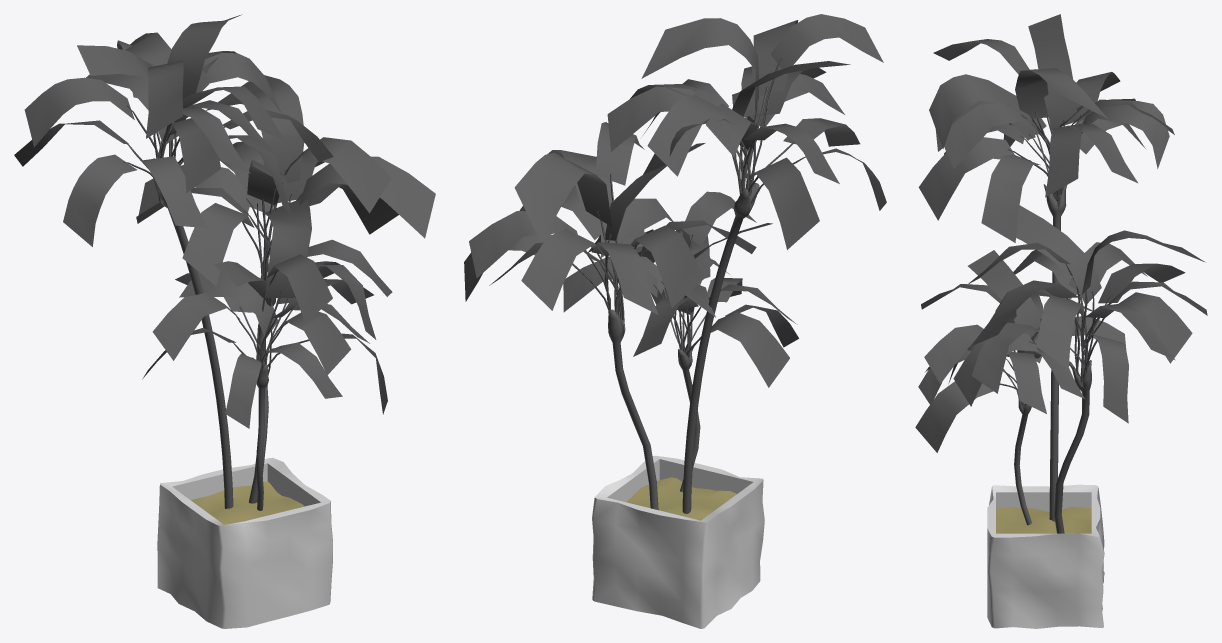
The model's file is vase04.FBX.
3 renders of one model, left to right at view 1: azimuth 30°, elevation 25°; view 2: azimuth 150°, elevation 25°; view 3: azimuth 270°, elevation 25°, orthographic. The views are drawn at different scales.
Parts seen in each view (by area): view 1: vase04; view 2: vase04; view 3: vase04.
Boxes of the visible parts, x1,y1,x2,y2 form: vase04: (14,14,435,628); vase04: (464,14,886,628); vase04: (915,14,1207,628).
Bounding box in the file's own units: 78.27 × 58.06 × 114.
